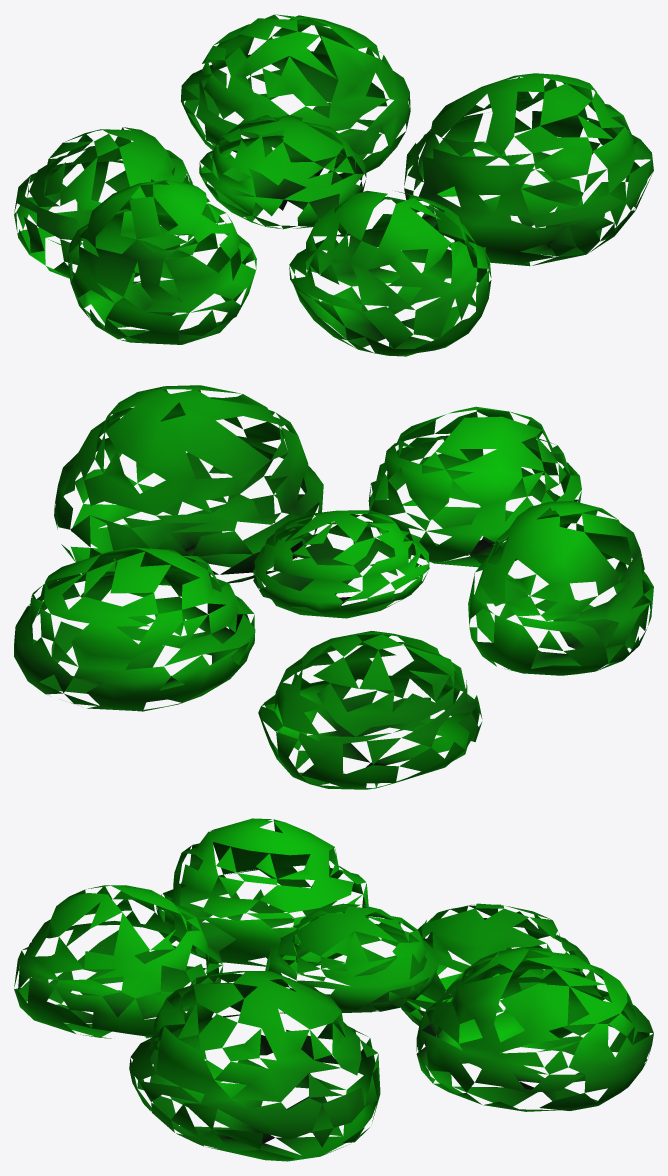
The model's file is TreeBig_ShadowCaster.FBX.
The picture shows the model from 3 angles, top to bottom: view 1: azimuth 30°, elevation 25°; view 2: azimuth 150°, elevation 25°; view 3: azimuth 270°, elevation 25°; orthographic projection. The views are drawn at different scales.
Visible parts, largest first — view 1: Leaves_ShadowCasters; view 2: Leaves_ShadowCasters; view 3: Leaves_ShadowCasters.
Boxes of the visible parts, bbox=[...] form: Leaves_ShadowCasters: bbox=[14, 14, 653, 356]; Leaves_ShadowCasters: bbox=[14, 385, 653, 789]; Leaves_ShadowCasters: bbox=[14, 818, 653, 1161].
Bounding box in the file's own units: 1878 × 651 × 1944.
